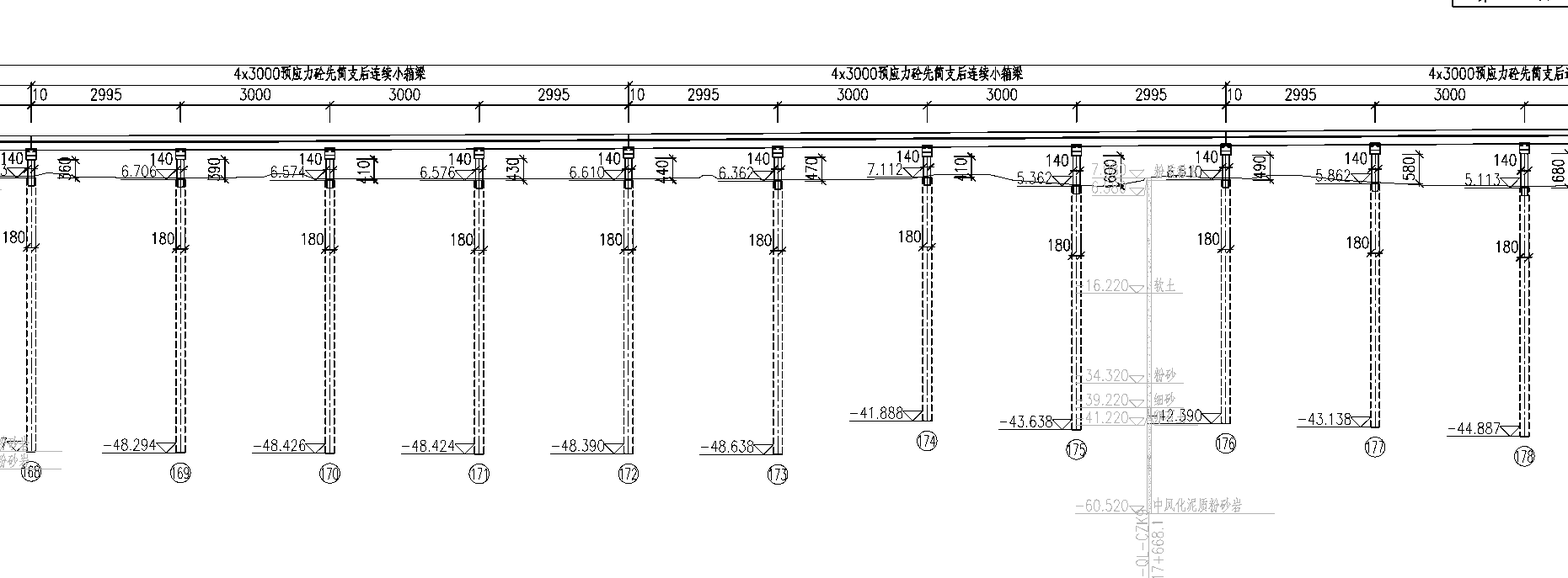C: (394, 132, 501, 492), (696, 136, 801, 495), (98, 138, 203, 495), (248, 138, 352, 494), (547, 139, 650, 494), (1444, 134, 1550, 474), (843, 135, 950, 460), (996, 136, 1100, 468), (1293, 133, 1396, 468), (1151, 132, 1248, 461), (0, 139, 55, 491)
